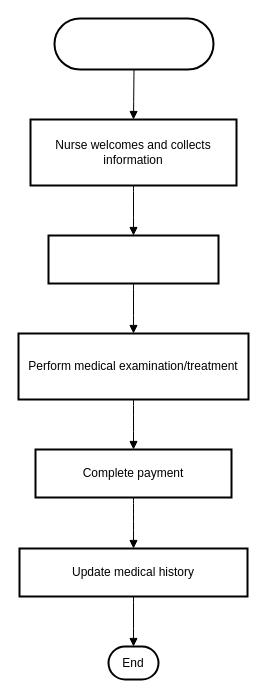
The diagram is 266 pixels wide and 697 high, and some of its shapes have lost their labels. The box of each missing label's shape, as (x1, y1, x2, y2) in pixels:
Assign a doctor: (47, 234, 219, 284)
Patient arrives for registration: (53, 17, 214, 70)
